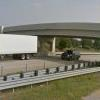Bridge: (3, 14, 98, 47)
